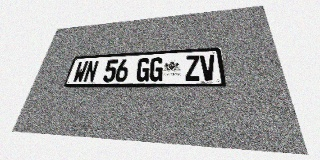5: (102, 59, 118, 82)
6: (114, 59, 130, 82)
G: (135, 58, 151, 82), (149, 57, 164, 81)
N: (83, 60, 99, 82)
V: (200, 54, 217, 81)
W: (72, 61, 89, 83)
Z: (185, 55, 200, 81)
